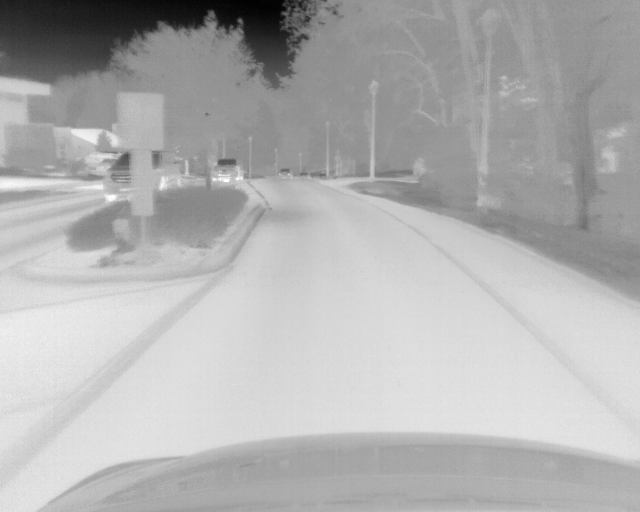car: (101, 148, 182, 199), (211, 157, 245, 182), (277, 167, 293, 177)
